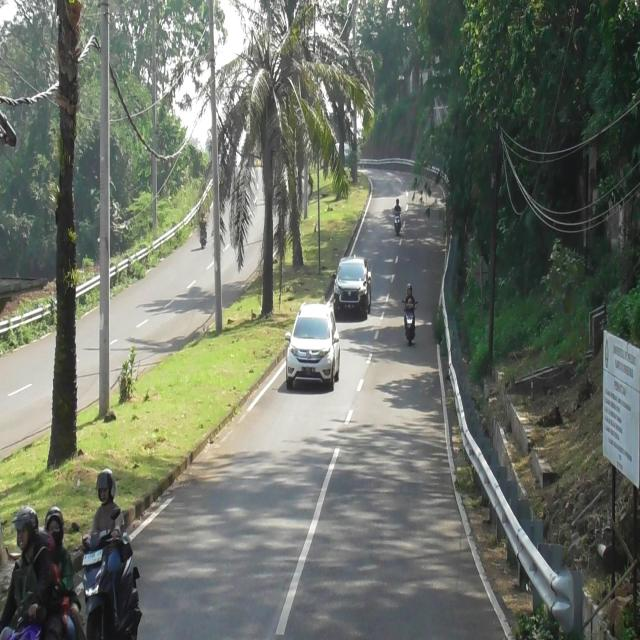motorcycle: (82, 521, 145, 640), (0, 613, 47, 639), (403, 303, 416, 346), (394, 210, 401, 234), (200, 228, 208, 247)
person: (6, 505, 53, 640), (45, 505, 85, 639), (90, 470, 124, 620), (39, 530, 73, 640), (404, 283, 416, 310), (393, 198, 402, 212), (200, 214, 207, 230)
rider_region: (0, 499, 81, 640), (86, 465, 144, 640), (402, 278, 418, 346), (391, 188, 404, 236), (197, 208, 209, 252)
